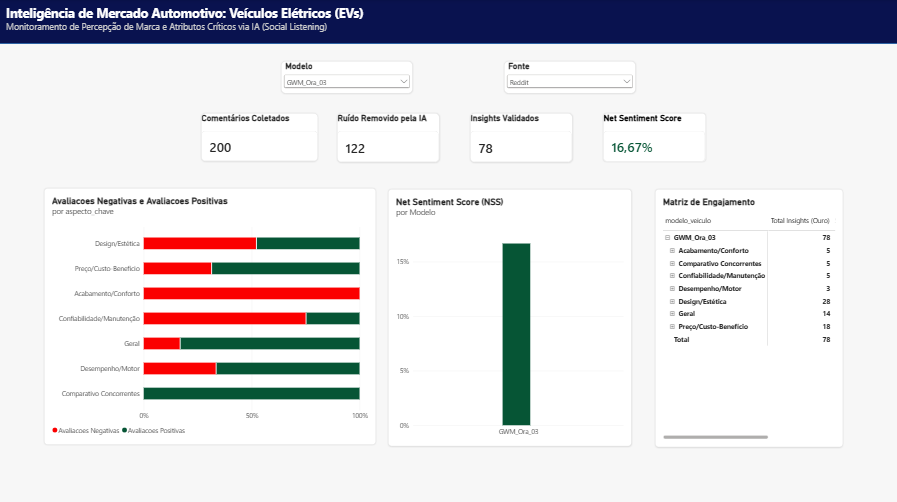

The dashboard page shown, as its layout file describes it:
{"tool":"powerbi","page":{"name":"Página 1","canvas":[1920,1080],"ordinal":0},"visuals":[{"type":"shape","box":[0,0,1920,95],"z":0},{"type":"slicer","fields":{"Values":["dModelo.Modelo"]},"box":[25,111,280,68.6],"z":1000},{"type":"slicer","fields":{"Values":["dFonte.Fonte"]},"box":[376,111,280,68.6],"z":2000},{"type":"cardVisual","title":"Comentários Coletados","fields":{"Data":["_Medidas.Total Volume Bruto"]},"box":[48.9,282.8,249.4,103.3],"z":2001},{"type":"cardVisual","title":"Ruído Removido pela IA","fields":{"Data":["_Medidas.Ruido Descartado"]},"box":[355,282.8,217.5,105],"z":2002},{"type":"cardVisual","title":"Insights Validados","fields":{"Data":["_Medidas.Total Insights (Ouro)"]},"box":[633.5,282.8,217.5,105],"z":2003},{"type":"cardVisual","title":"Net Sentiment Score","fields":{"Data":["_Medidas.Net Sentiment Score (NSS)"]},"box":[916.3,282.8,219,104.2],"z":2004},{"type":"donutChart","fields":{"Y":["_Medidas.Ruido Descartado","_Medidas.Total Insights (Ouro)"]},"box":[48.9,433.7,496.4,340.2],"z":2005},{"type":"hundredPercentStackedBarChart","fields":{"Category":["fAvaliacoes.aspecto_chave"],"Y":["_Medidas.Avaliacoes Negativas","_Medidas.Avaliacoes Positivas"]},"box":[608,433.7,705.5,370.4],"z":2006},{"type":"pivotTable","fields":{"Rows":["fAvaliacoes.modelo_veiculo","fAvaliacoes.aspecto_chave","fAvaliacoes.resumo_insight"],"Values":["Sum(fAvaliacoes.likes)"]},"box":[95.7,803.6,297.6,233.9],"z":2008},{"type":"clusteredColumnChart","fields":{"Category":["dModelo.Modelo"],"Y":["_Medidas.Net Sentiment Score (NSS)"]},"box":[1362.8,433.7,518.7,646.3],"z":2009}]}

Visuals, with their boxes in screenshot pixels (x1, y1, x2, y2), scaled from the page's 1920x1080 canvas onto the 897x502 screenshot:
shape: BBox(0, 0, 896, 44)
slicer - dModelo.Modelo: BBox(12, 52, 142, 83)
slicer - dFonte.Fonte: BBox(176, 52, 306, 83)
"Comentários Coletados" cardVisual: BBox(23, 131, 139, 179)
"Ruído Removido pela IA" cardVisual: BBox(166, 131, 267, 180)
"Insights Validados" cardVisual: BBox(296, 131, 398, 180)
"Net Sentiment Score" cardVisual: BBox(428, 131, 530, 180)
donutChart - _Medidas.Ruido Descartado x _Medidas.Total Insights (Ouro): BBox(23, 202, 255, 360)
hundredPercentStackedBarChart - fAvaliacoes.aspecto_chave x _Medidas.Avaliacoes Negativas: BBox(284, 202, 614, 374)
pivotTable - fAvaliacoes.modelo_veiculo x fAvaliacoes.aspecto_chave: BBox(45, 374, 184, 482)
clusteredColumnChart - dModelo.Modelo x _Medidas.Net Sentiment Score (NSS): BBox(637, 202, 879, 501)
